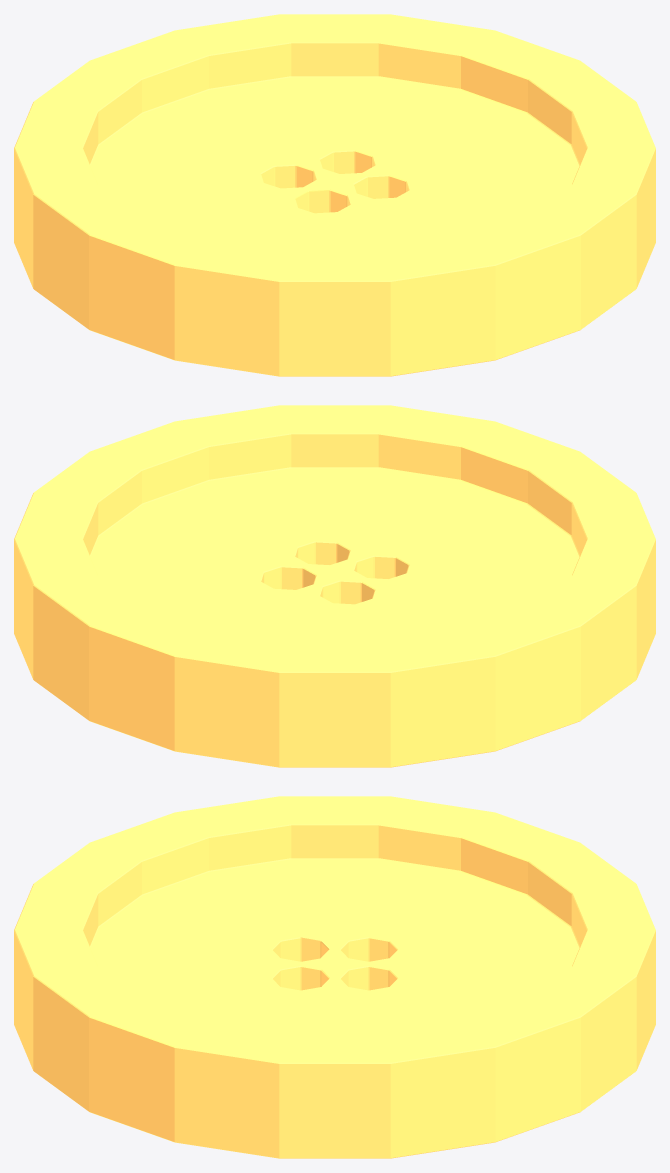
File: MiniVan_AmberButton.fbx
3 renders of one model, top to bottom at view 1: azimuth 30°, elevation 25°; view 2: azimuth 150°, elevation 25°; view 3: azimuth 270°, elevation 25°, orthographic.
Visible parts, largest first — view 1: MiniVan_AmberButton; view 2: MiniVan_AmberButton; view 3: MiniVan_AmberButton.
Part boxes in pixels (bbox=[...]): MiniVan_AmberButton: bbox=[14, 14, 655, 376]; MiniVan_AmberButton: bbox=[14, 405, 655, 767]; MiniVan_AmberButton: bbox=[14, 796, 655, 1158].
Bounding box in the file's own units: 0.1674 × 0.028 × 0.17.
